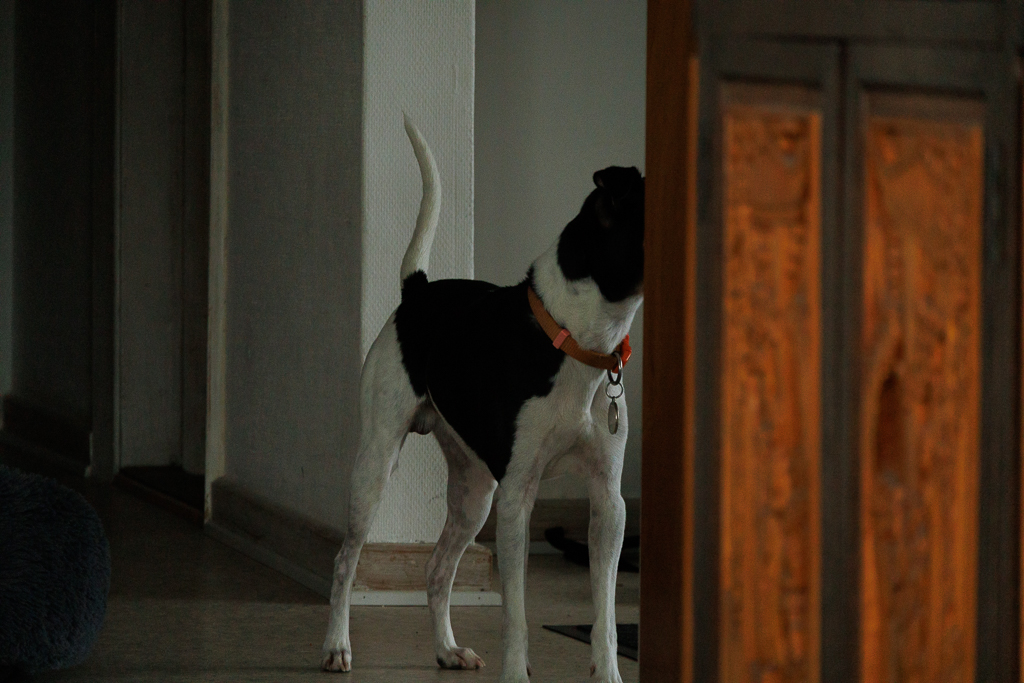Dog: (311, 96, 654, 683)
